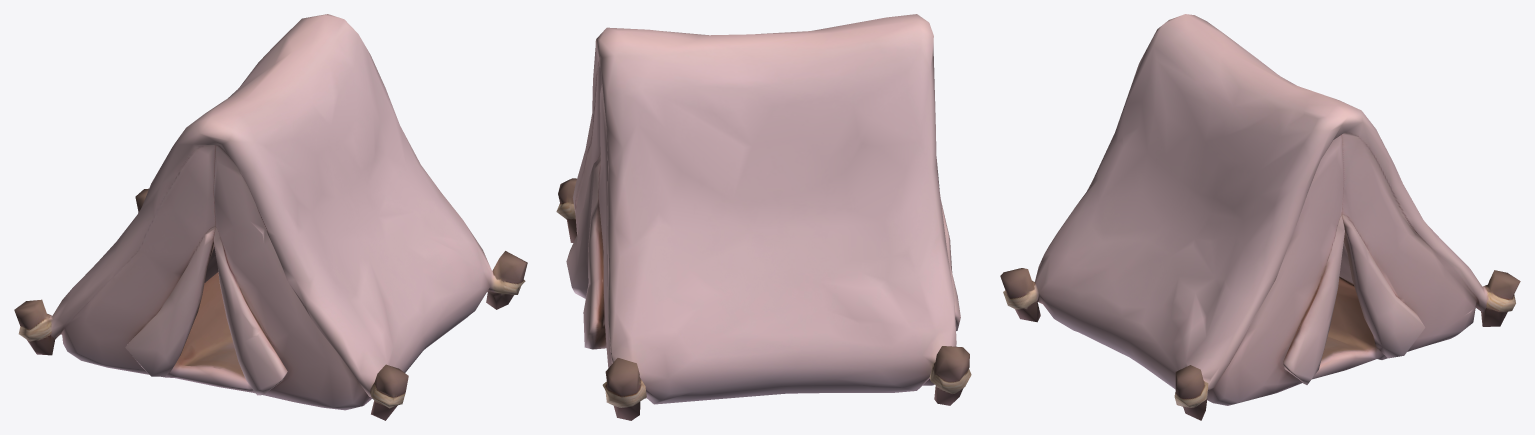
Rendered from tent.glb.
3 renders of one model, left to right at view 1: azimuth 30°, elevation 25°; view 2: azimuth 150°, elevation 25°; view 3: azimuth 270°, elevation 25°, orthographic. The views are drawn at different scales.
Parts seen in each view (by area): view 1: tripo_node_d3df984b-8e0b-4bdd-916a-ed90e1b032d3; view 2: tripo_node_d3df984b-8e0b-4bdd-916a-ed90e1b032d3; view 3: tripo_node_d3df984b-8e0b-4bdd-916a-ed90e1b032d3.
Part boxes in pixels (<box>): tripo_node_d3df984b-8e0b-4bdd-916a-ed90e1b032d3: <box>14,14,527,420</box>; tripo_node_d3df984b-8e0b-4bdd-916a-ed90e1b032d3: <box>556,14,971,420</box>; tripo_node_d3df984b-8e0b-4bdd-916a-ed90e1b032d3: <box>1000,14,1520,420</box>.
Size of the model in its own units: 1.18 by 0.6994 by 1.24.
Materials: 1 (1 with a texture image).
